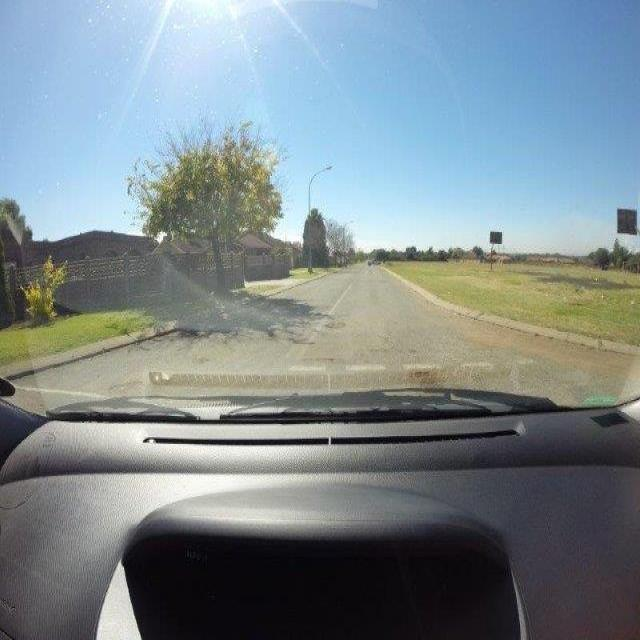lubang: (311, 320, 345, 329)
